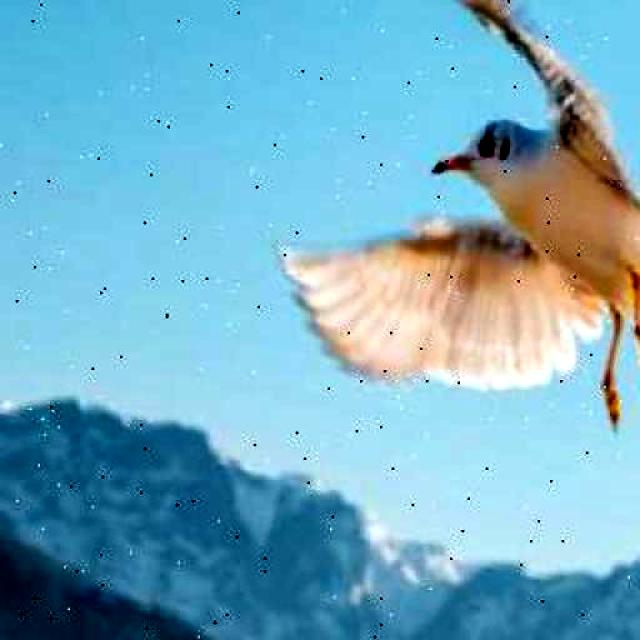airplane: (249, 0, 640, 454)
